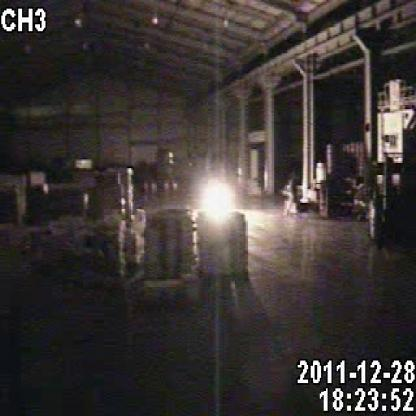fire: (178, 169, 246, 259)
